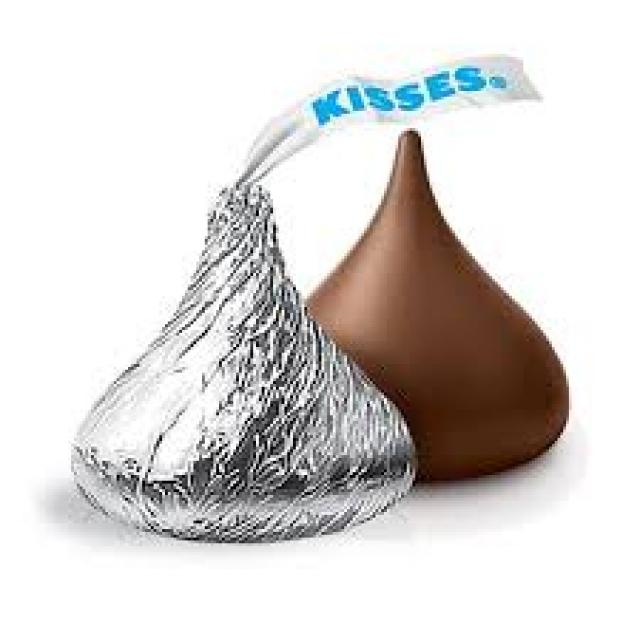kisses: (60, 37, 444, 572)
